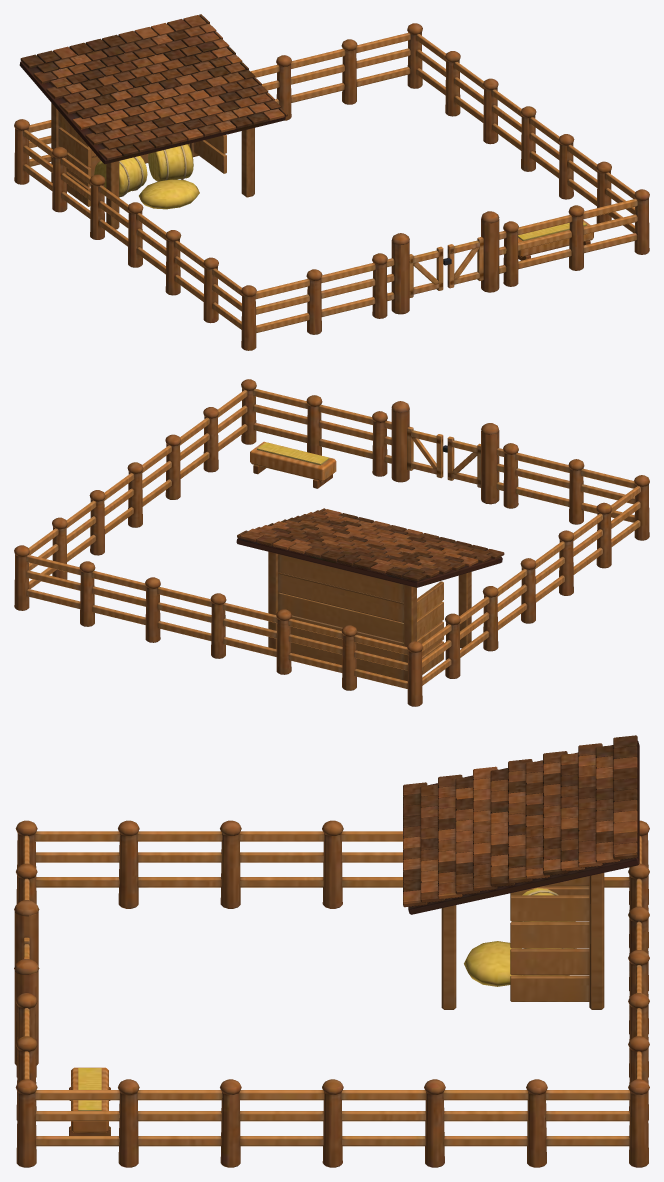
Rendered from donkey_paddock.glb.
3 views of the same model, one above another, from view 1: azimuth 30°, elevation 25°; view 2: azimuth 150°, elevation 25°; view 3: azimuth 270°, elevation 25° (orthographic). The views are drawn at different scales.
Visible parts, largest first — view 1: donkey_paddock; view 2: donkey_paddock; view 3: donkey_paddock.
Part boxes in pixels (x1,y1,x2,y2): donkey_paddock: (14, 14, 649, 350); donkey_paddock: (14, 379, 649, 706); donkey_paddock: (14, 735, 649, 1167).
Bounding box in the file's own units: 3 × 0.9345 × 3.01.
Materials: 1 (1 with a texture image).
